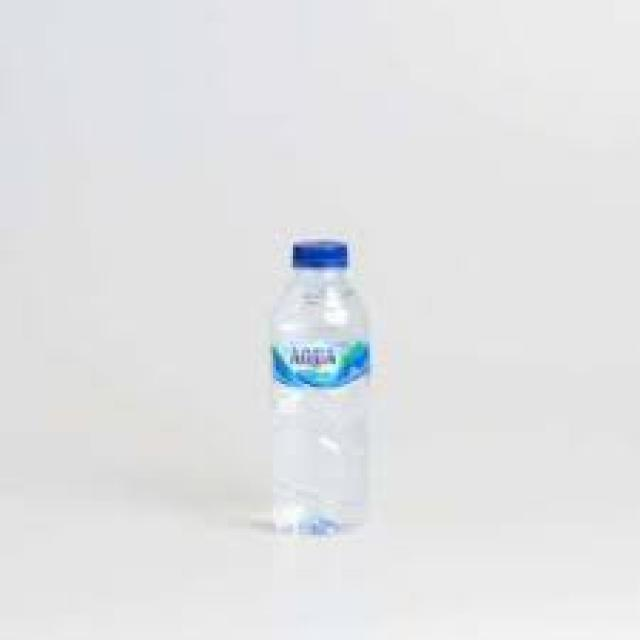good: (251, 228, 418, 552)
